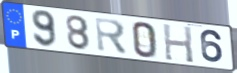0: (131, 20, 158, 59)
6: (199, 28, 225, 66)
8: (64, 14, 91, 52)
9: (30, 9, 59, 50)
H: (161, 22, 196, 65)
R: (93, 16, 130, 57)
